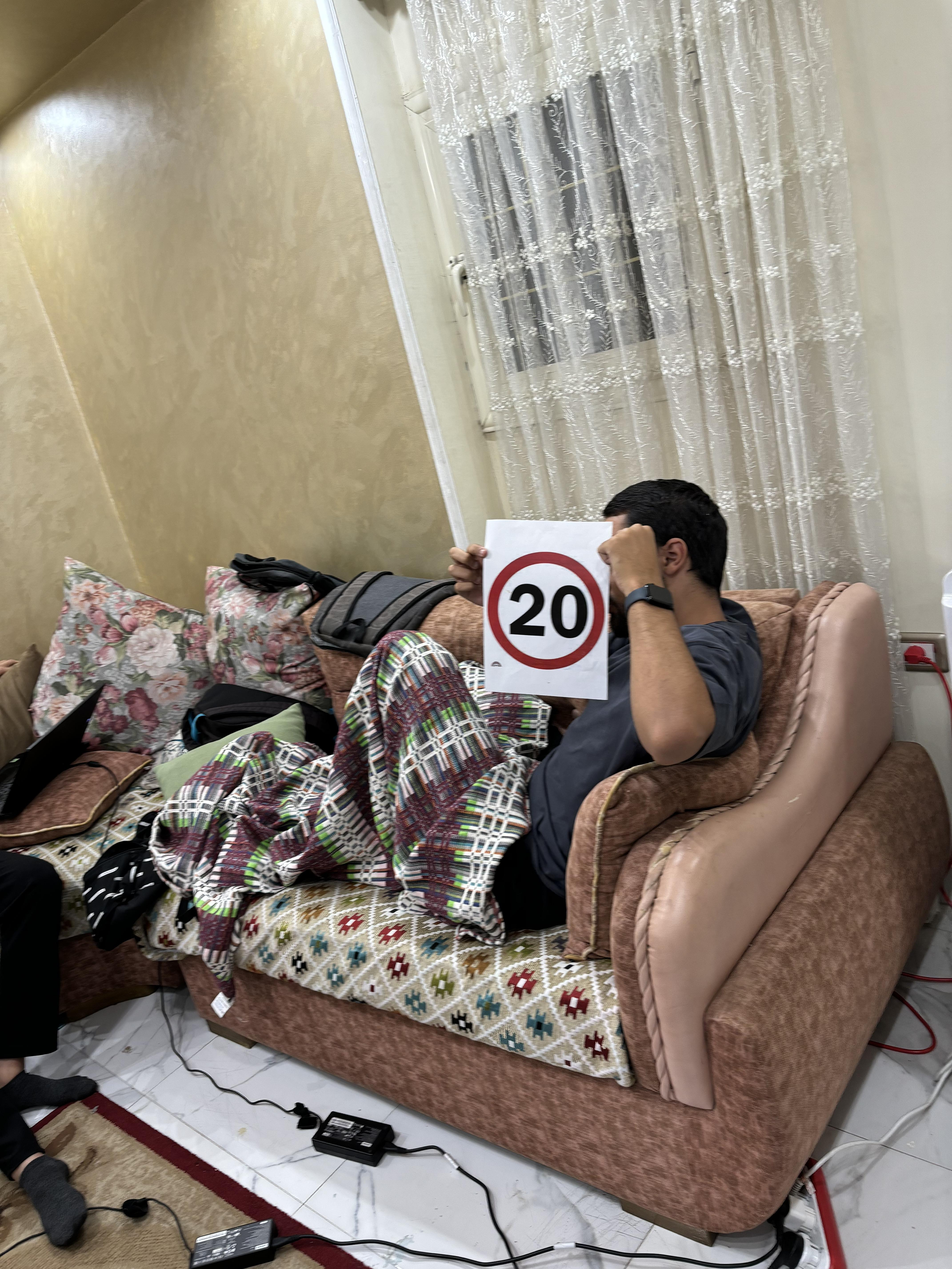20-Speed: (492, 551, 603, 664)
